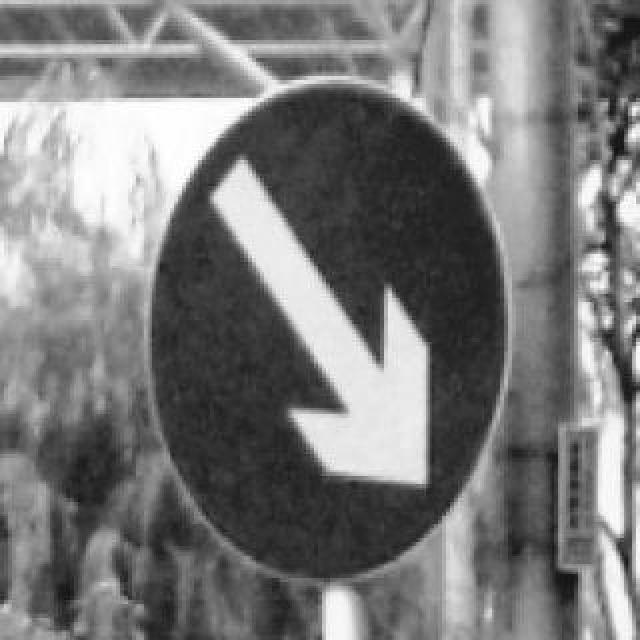keep right: (120, 68, 516, 592)
